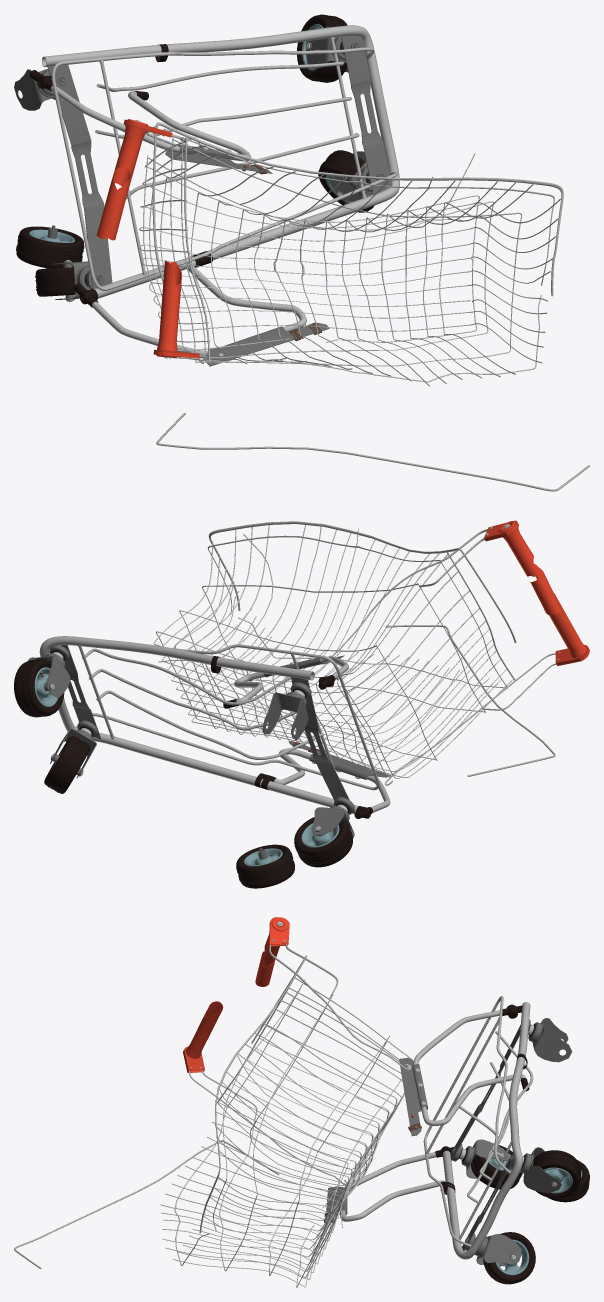
The model's file is Supermarket Trolley.fbx.
3 views of the same model, one above another, from view 1: azimuth 30°, elevation 25°; view 2: azimuth 150°, elevation 25°; view 3: azimuth 270°, elevation 25° (orthographic). The views are drawn at different scales.
Visible parts, largest first — view 1: BezierCurve.020, BezierCurve.004, Plane.006, BezierCurve.001, Plane.005, Cylinder.081, BezierCurve.002, Cylinder.020, BezierCurve, Cylinder.003, Plane.001, BezierCurve.003 (+9 smaller); view 2: BezierCurve.020, BezierCurve.004, BezierCurve.001, Cylinder.081, Cylinder.003, Plane.006, Cylinder.117, Cylinder.092, Cylinder.028, Plane.002, Cylinder.020, BezierCurve.007 (+11 smaller); view 3: BezierCurve.020, BezierCurve.004, BezierCurve.001, BezierCurve.002, Plane.007, Cylinder.020, Cylinder.081, BezierCurve, Plane.002, Cylinder.092, Plane.004, Cylinder.028 (+5 smaller).
Boxes of the visible parts, box(x1,y1,x2,y2) form: BezierCurve.020: box(139, 122, 563, 386); BezierCurve.004: box(42, 25, 399, 298); Plane.006: box(47, 65, 112, 288); BezierCurve.001: box(51, 47, 397, 290); Plane.005: box(341, 36, 392, 194); Cylinder.081: box(96, 119, 172, 240); BezierCurve.002: box(50, 86, 250, 161); Cylinder.020: box(153, 260, 199, 359); BezierCurve: box(91, 260, 306, 355); Cylinder.003: box(16, 226, 83, 268); Plane.001: box(205, 322, 329, 366); BezierCurve.003: box(156, 412, 589, 491); BezierCurve.020: box(153, 521, 556, 785); BezierCurve.004: box(39, 636, 358, 814); BezierCurve.001: box(74, 644, 379, 790); Cylinder.081: box(484, 520, 561, 614); Cylinder.003: box(236, 844, 294, 888); Plane.006: box(291, 677, 355, 812); Cylinder.117: box(294, 817, 352, 867); Cylinder.092: box(14, 659, 64, 716); Cylinder.028: box(44, 736, 90, 793); Plane.002: box(262, 692, 308, 740); Cylinder.020: box(549, 593, 589, 665); BezierCurve.007: box(96, 690, 323, 759); BezierCurve.020: box(160, 943, 412, 1287); BezierCurve.004: box(442, 1002, 530, 1259); BezierCurve.001: box(423, 996, 510, 1246); BezierCurve.002: box(413, 1010, 525, 1125); Plane.007: box(399, 1057, 427, 1136); Cylinder.020: box(183, 1001, 223, 1072); Cylinder.081: box(255, 917, 289, 986); BezierCurve: box(340, 1152, 444, 1221); Plane.002: box(533, 1018, 572, 1062); Cylinder.092: box(533, 1150, 580, 1198); Plane.004: box(476, 1234, 521, 1266); Cylinder.028: box(484, 1232, 535, 1283).
Bounding box in the file's own units: 286 × 192 × 421.
